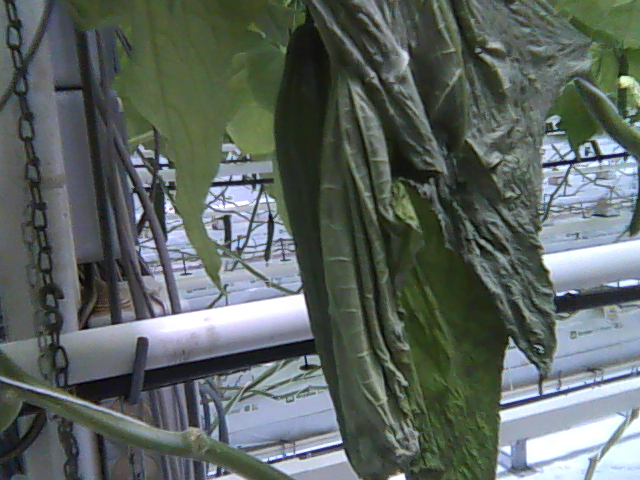concombre: (274, 19, 400, 480)
